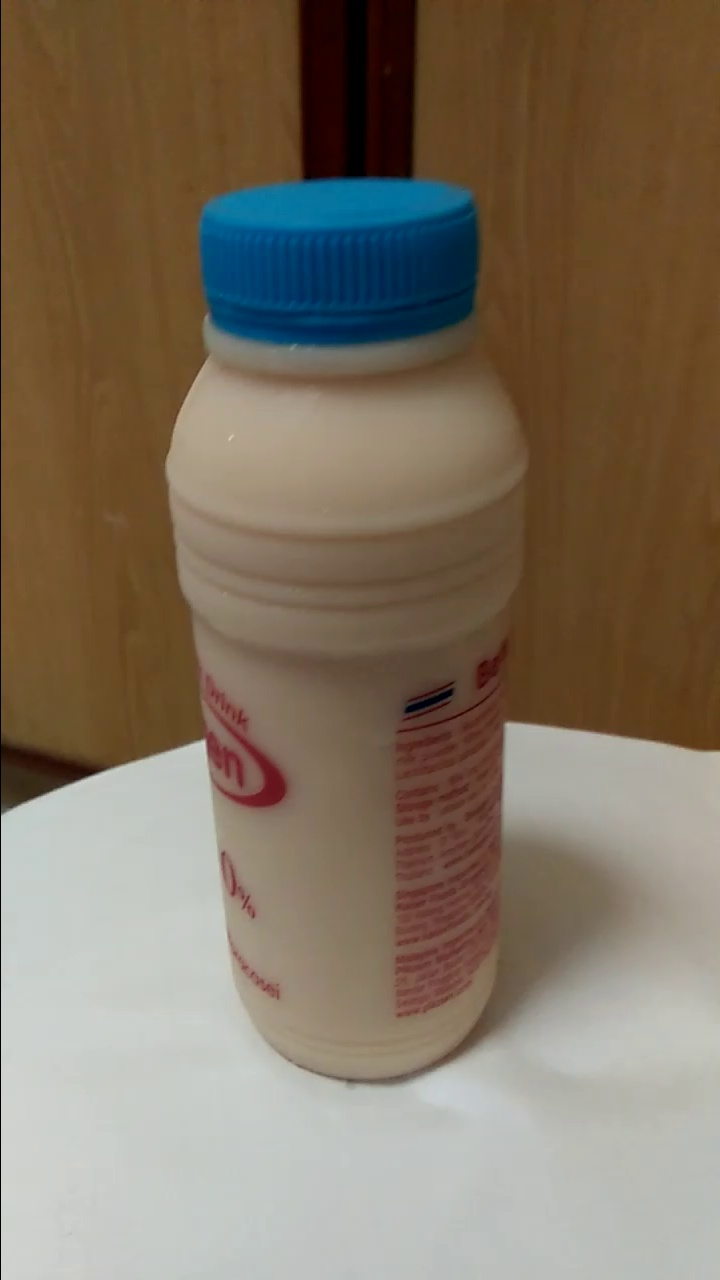mlik2: (178, 176, 519, 1086)
